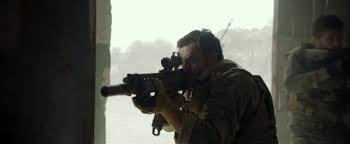rifle: (102, 54, 200, 134)
